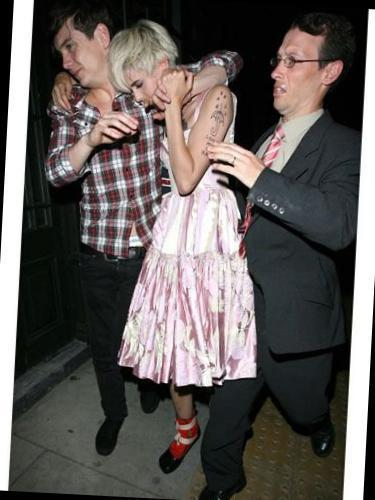Drunk: (269, 32, 319, 112), (55, 27, 103, 88), (120, 62, 158, 109)
